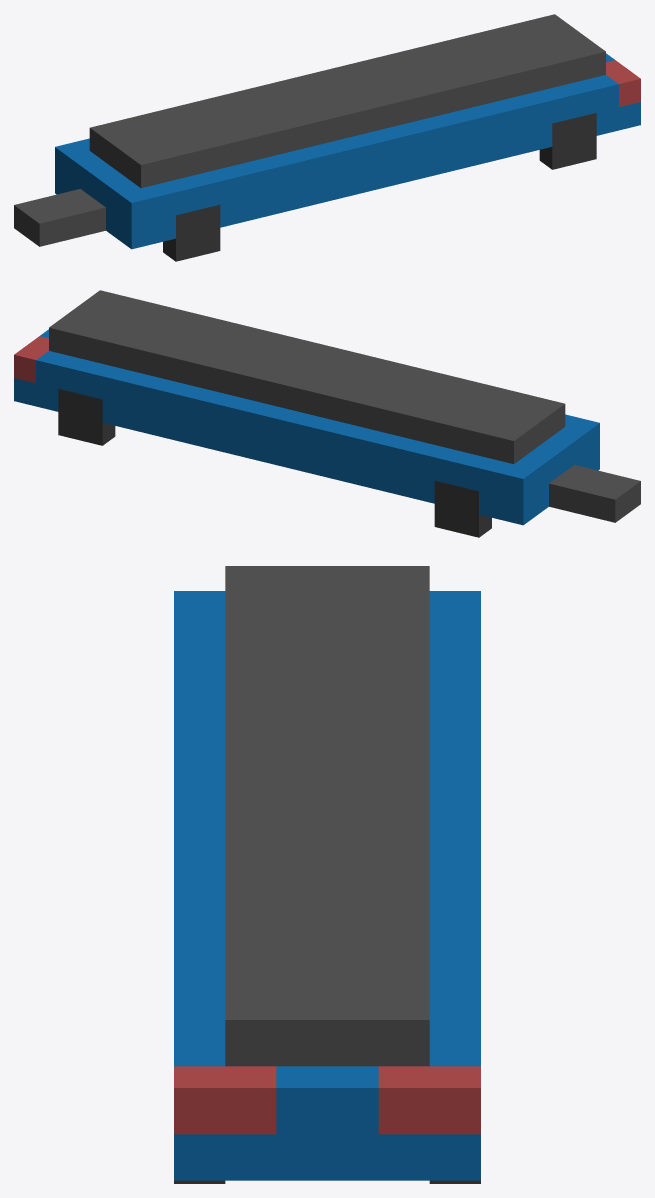
File: truck-trailer-v2-blue.gltf
The picture shows the model from 3 angles, top to bottom: view 1: azimuth 30°, elevation 25°; view 2: azimuth 150°, elevation 25°; view 3: azimuth 270°, elevation 25°; orthographic projection. The views are drawn at different scales.
Visible parts, largest first — view 1: model, wheels; view 2: model, wheels; view 3: model.
Part boxes in pixels (bbox=[...]): model: bbox=[14, 14, 640, 249]; wheels: bbox=[163, 113, 596, 261]; model: bbox=[14, 290, 640, 525]; wheels: bbox=[58, 389, 491, 537]; model: bbox=[174, 566, 480, 1180].
Bounding box in the file's own units: 2.6 × 0.4 × 0.6.
2 materials, 2 textured.
